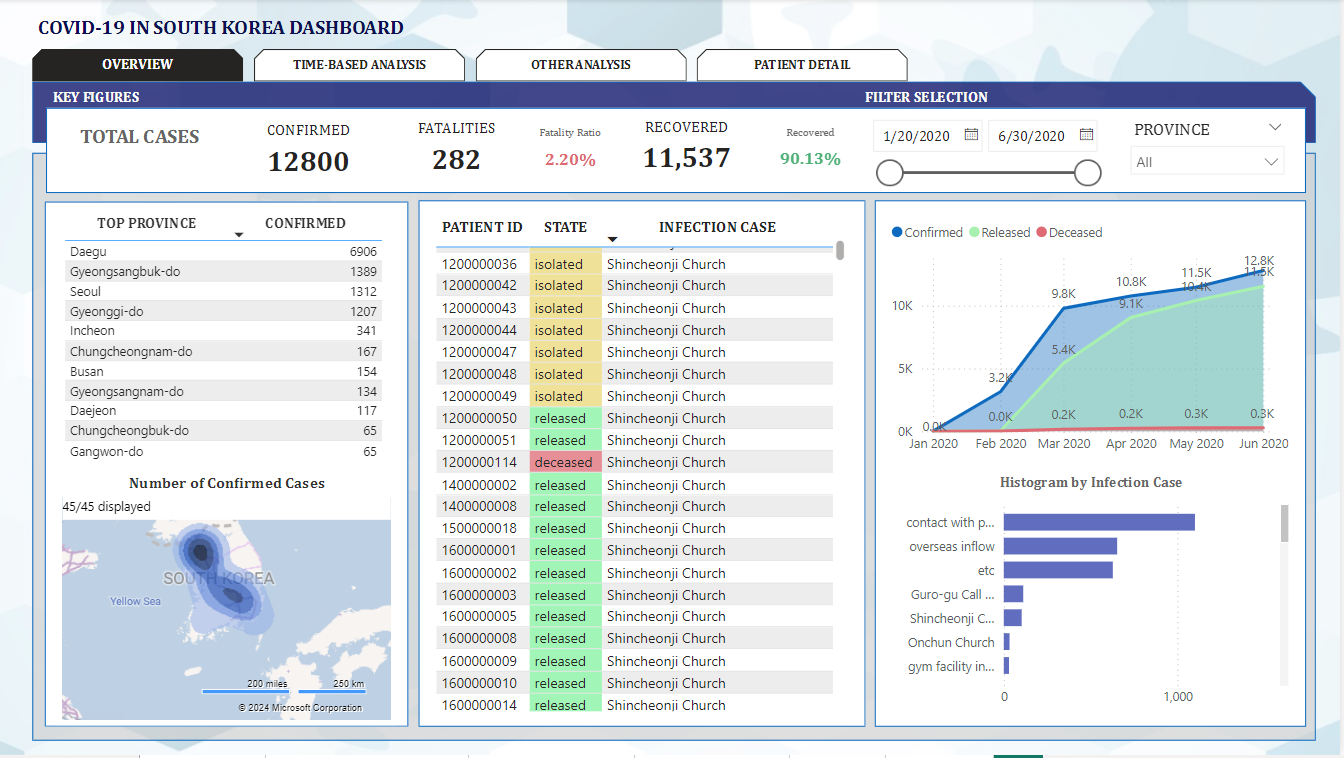

The page's visual inventory and layout, read from the dashboard file:
{"tool":"powerbi","page":{"name":"OVERVIEW","canvas":[1280,720],"ordinal":0},"visuals":[{"type":"textbox","box":[35,11.2,378.8,36.2],"z":0},{"type":"shape","box":[35,146.2,1222.5,560],"z":1000},{"type":"shape","title":"Key figures","box":[35,78.8,1222.5,58.8],"z":2000},{"type":"shape","box":[47.2,104.1,1200,81.2],"z":3000,"group":"g1"},{"type":"group","id":"g1","title":"Group 1","box":[45.9,104.1,1201.6,589.6],"z":3000},{"type":"textbox","box":[822.5,78.8,140,51.2],"z":4000},{"type":"shape","box":[45.9,193.5,346.3,500.2],"z":4000,"group":"g1"},{"type":"textbox","box":[48.8,78.6,109.5,34.5],"z":5000},{"type":"shape","box":[836.6,192.2,410.9,501.5],"z":6000,"group":"g1"},{"type":"card","title":"CONFIRMED","fields":{"Values":["Max(Time.confirmed)"]},"box":[240.2,115.3,114.1,62.4],"z":6000},{"type":"card","title":"FATALITIES","fields":{"Values":["Max(Time.deceased)"]},"box":[378.6,114.2,120.4,59.6],"z":7000},{"type":"slicer","fields":{"Values":["Time.date"]},"box":[822.6,104.8,238.1,75],"z":8000},{"type":"slicer","fields":{"Values":["Case.province"]},"box":[1069.9,109.3,166.9,69.6],"z":9000},{"type":"card","title":"RECOVERED","fields":{"Values":["Max(Time.released)"]},"box":[587.1,113,141.5,58.3],"z":10000},{"type":"heatmapF244EA9EE1F34E828A80CF19B41976F8","title":"Number of Confirmed Cases","fields":{"location":["Case.province"],"longitude":["Case.longitude"],"latitude":["Case.latitude"],"value":["Max(Time.confirmed)"]},"box":[58.3,451.8,322.7,239.6],"z":11000},{"type":"pageNavigator","box":[35,47.5,835,31.2],"z":12000},{"type":"shape","box":[402.1,192.2,425.8,501.5],"z":12000,"group":"g1"},{"type":"textbox","box":[74.5,114.2,145.2,57.1],"z":13000},{"type":"tableEx","fields":{"Values":["TimeProvince.province","Max(TimeProvince.confirmed)"]},"box":[59.6,198.6,320.3,248.3],"z":14000},{"type":"areaChart","title":"Total Covid-19 Test Conducted","fields":{"Category":["Time.date.Variation.Date Hierarchy.Year","Time.date.Variation.Date Hierarchy.Quarter","Time.date.Variation.Date Hierarchy.Month","Time.date.Variation.Date Hierarchy.Day"],"Y":["Max(Time.confirmed)","Max(Time.released)","Max(Time.deceased)"]},"box":[847.8,202.3,388.5,239.6],"z":15000},{"type":"card","title":"Fatality Ratio","fields":{"Values":["MEASURE.Fatality Ratio"]},"box":[494,120.4,105.5,54.6],"z":16000},{"type":"card","title":"Recovered","fields":{"Values":["MEASURE.Recovered"]},"box":[728.9,120.1,93.7,54],"z":17000},{"type":"clusteredBarChart","title":"Histogram by Infection Case","fields":{"Category":["Case.infection_case"],"Y":["CountNonNull(PatientInfo.confirmed_date)"]},"box":[850.3,451.8,386,230.9],"z":18000},{"type":"tableEx","fields":{"Values":["PatientInfo.patient_id","PatientInfo.state","PatientInfo.infection_case"]},"box":[413.1,202.4,400,481],"z":19000}]}

Visuals, with their boxes in screenshot pixels (x1, y1, x2, y2), scaled from the page's 1280x720 canvas onto the 1344x758 screenshot:
textbox: box=[37, 12, 434, 50]
shape: box=[37, 154, 1320, 743]
"Key figures" shape: box=[37, 83, 1320, 145]
shape: box=[50, 110, 1310, 195]
"Group 1" group: box=[48, 110, 1310, 730]
textbox: box=[864, 83, 1011, 137]
shape: box=[48, 204, 412, 730]
textbox: box=[51, 83, 166, 119]
shape: box=[878, 202, 1310, 730]
"CONFIRMED" card: box=[252, 121, 372, 187]
"FATALITIES" card: box=[398, 120, 524, 183]
slicer - Time.date: box=[864, 110, 1114, 189]
slicer - Case.province: box=[1123, 115, 1299, 188]
"RECOVERED" card: box=[616, 119, 765, 180]
"Number of Confirmed Cases" heatmapF244EA9EE1F34E828A80CF19B41976F8: box=[61, 476, 400, 728]
pageNavigator: box=[37, 50, 914, 83]
shape: box=[422, 202, 869, 730]
textbox: box=[78, 120, 231, 180]
tableEx - TimeProvince.province x Max(TimeProvince.confirmed): box=[63, 209, 399, 470]
"Total Covid-19 Test Conducted" areaChart: box=[890, 213, 1298, 465]
"Fatality Ratio" card: box=[519, 127, 629, 184]
"Recovered" card: box=[765, 126, 864, 183]
"Histogram by Infection Case" clusteredBarChart: box=[893, 476, 1298, 719]
tableEx - PatientInfo.patient_id x PatientInfo.state: box=[434, 213, 854, 719]
